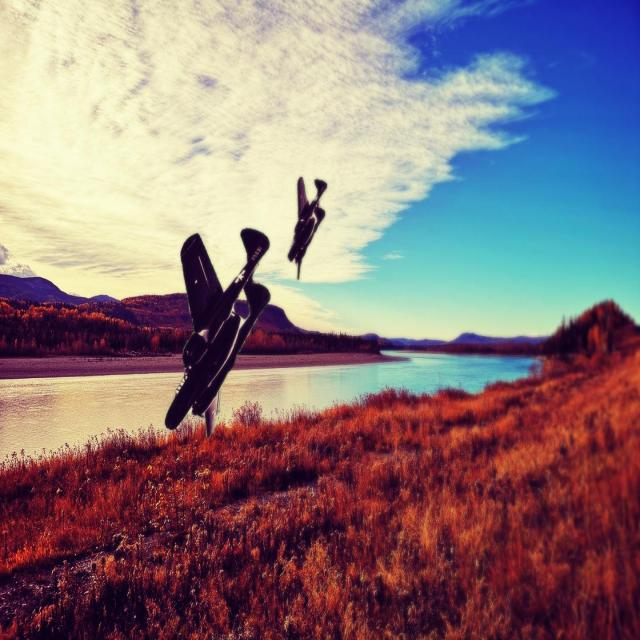airplane: (164, 227, 271, 438), (287, 176, 327, 280)
